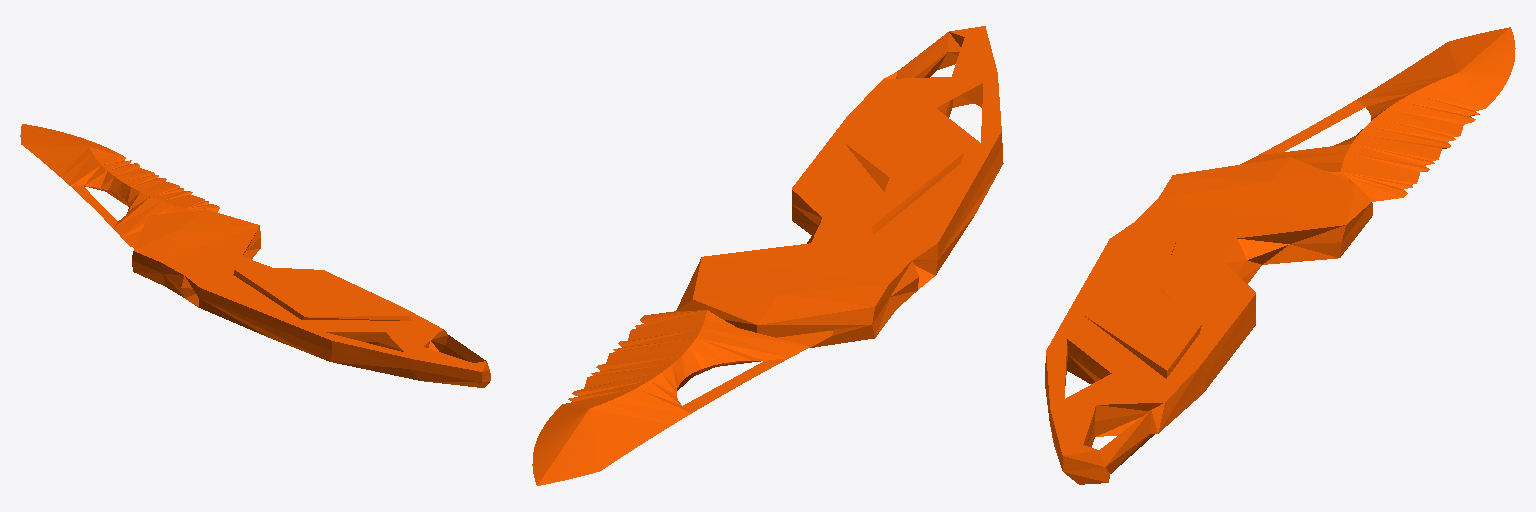
robot.urdf — Knife_225:
<?xml version="1.0" ?>
<robot name="Knife_225">
   <material name="obj_color">
      <color rgba="1.0 0.423529411765 0.0392156862745 1.0"/>
   </material>
   <link name="top">
      <inertial>
         <origin rpy="6.330182098174314e-05 0.0007933259184288737 0.0008482178229964042" xyz="0.003154960735397584 -0.02868243754154053 -0.0002358196490089637"/>
         <mass value="0.205067098879849"/>
         <inertia ixx="0.0007640366746685611" ixy="0.0001432620148629006" ixz="-1.16318579224598e-08" iyy="9.259114002302609e-05" iyz="2.139799337504154e-07" izz="0.0008482177477154338"/>
      </inertial>
      <visual>
         <origin rpy="0 0 0" xyz="0 0 0"/>
         <geometry>
            <mesh filename="top_watertight_tiny.stl" scale="1 1 1"/>
         </geometry>
         <material name="obj_color"/>
      </visual>
      <collision>
         <origin rpy="0 0 0" xyz="0 0 0"/>
         <geometry>
            <mesh filename="top_watertight_tiny.obj" scale="1 1 1"/>
         </geometry>
      </collision>
   </link>
   <link name="bottom">
      <inertial>
         <origin rpy="4.921226617697685e-06 4.441923819306426e-05 4.883840083810015e-05" xyz="-0.006083083623381 0.1230971172620466 -0.000226"/>
         <mass value="0.03876814403864444"/>
         <inertia ixx="4.441595582930668e-05" ixy="3.600500906534802e-07" ixz="-6.333101564859118e-23" iyy="4.924508981455264e-06" iyz="8.106370003019671e-22" izz="4.883840083810015e-05"/>
      </inertial>
      <visual>
         <origin rpy="0 0 0" xyz="0 0 0"/>
         <geometry>
            <mesh filename="bottom_watertight_tiny.stl" scale="1 1 1"/>
         </geometry>
         <material name="obj_color"/>
      </visual>
      <collision>
         <origin rpy="0 0 0" xyz="0 0 0"/>
         <geometry>
            <mesh filename="bottom_watertight_tiny.obj" scale="1 1 1"/>
         </geometry>
      </collision>
   </link>
   <link name="world"/>
   <joint name="world_to_base" type="fixed">
      <origin xyz="0 0 0"/>
      <axis xyz="0 0 0"/>
      <parent link="world"/>
      <child link="bottom"/>
   </joint>
   <joint name="rotation" type="revolute">
      <origin xyz="0 0 0"/>
      <axis xyz="0 0 -1"/>
      <parent link="bottom"/>
      <child link="top"/>
      <dynamics damping="1.0" friction="1.0"/>
      <limit effort="0.1" velocity="0.1" lower="0" upper="0.001"/>
   </joint>
</robot>

--- Facts derived from the render (not from the file) ---
3 views of the same robot in one strip: view 1: azimuth 30°, elevation 25°; view 2: azimuth 150°, elevation 25°; view 3: azimuth 330°, elevation 25° (orthographic).
Robot: Knife_225 — 3 links, 2 joints (1 revolute, 1 fixed); root link world; default pose: all joints at 0.
Links seen in each view (by area): view 1: top, bottom; view 2: top, bottom; view 3: top, bottom.
Link boxes in pixels (x1=…): top: x1=132, y1=209, x2=490, y2=387; bottom: x1=20, y1=124, x2=219, y2=247; top: x1=676, y1=26, x2=1003, y2=347; bottom: x1=532, y1=310, x2=832, y2=485; top: x1=1045, y1=157, x2=1372, y2=484; bottom: x1=1240, y1=27, x2=1515, y2=201.
Size in the robot's own frame: 0.0919 by 0.384 by 0.0169 metres.
2 mesh visuals loaded from 2 distinct referenced files (2 binary STL).